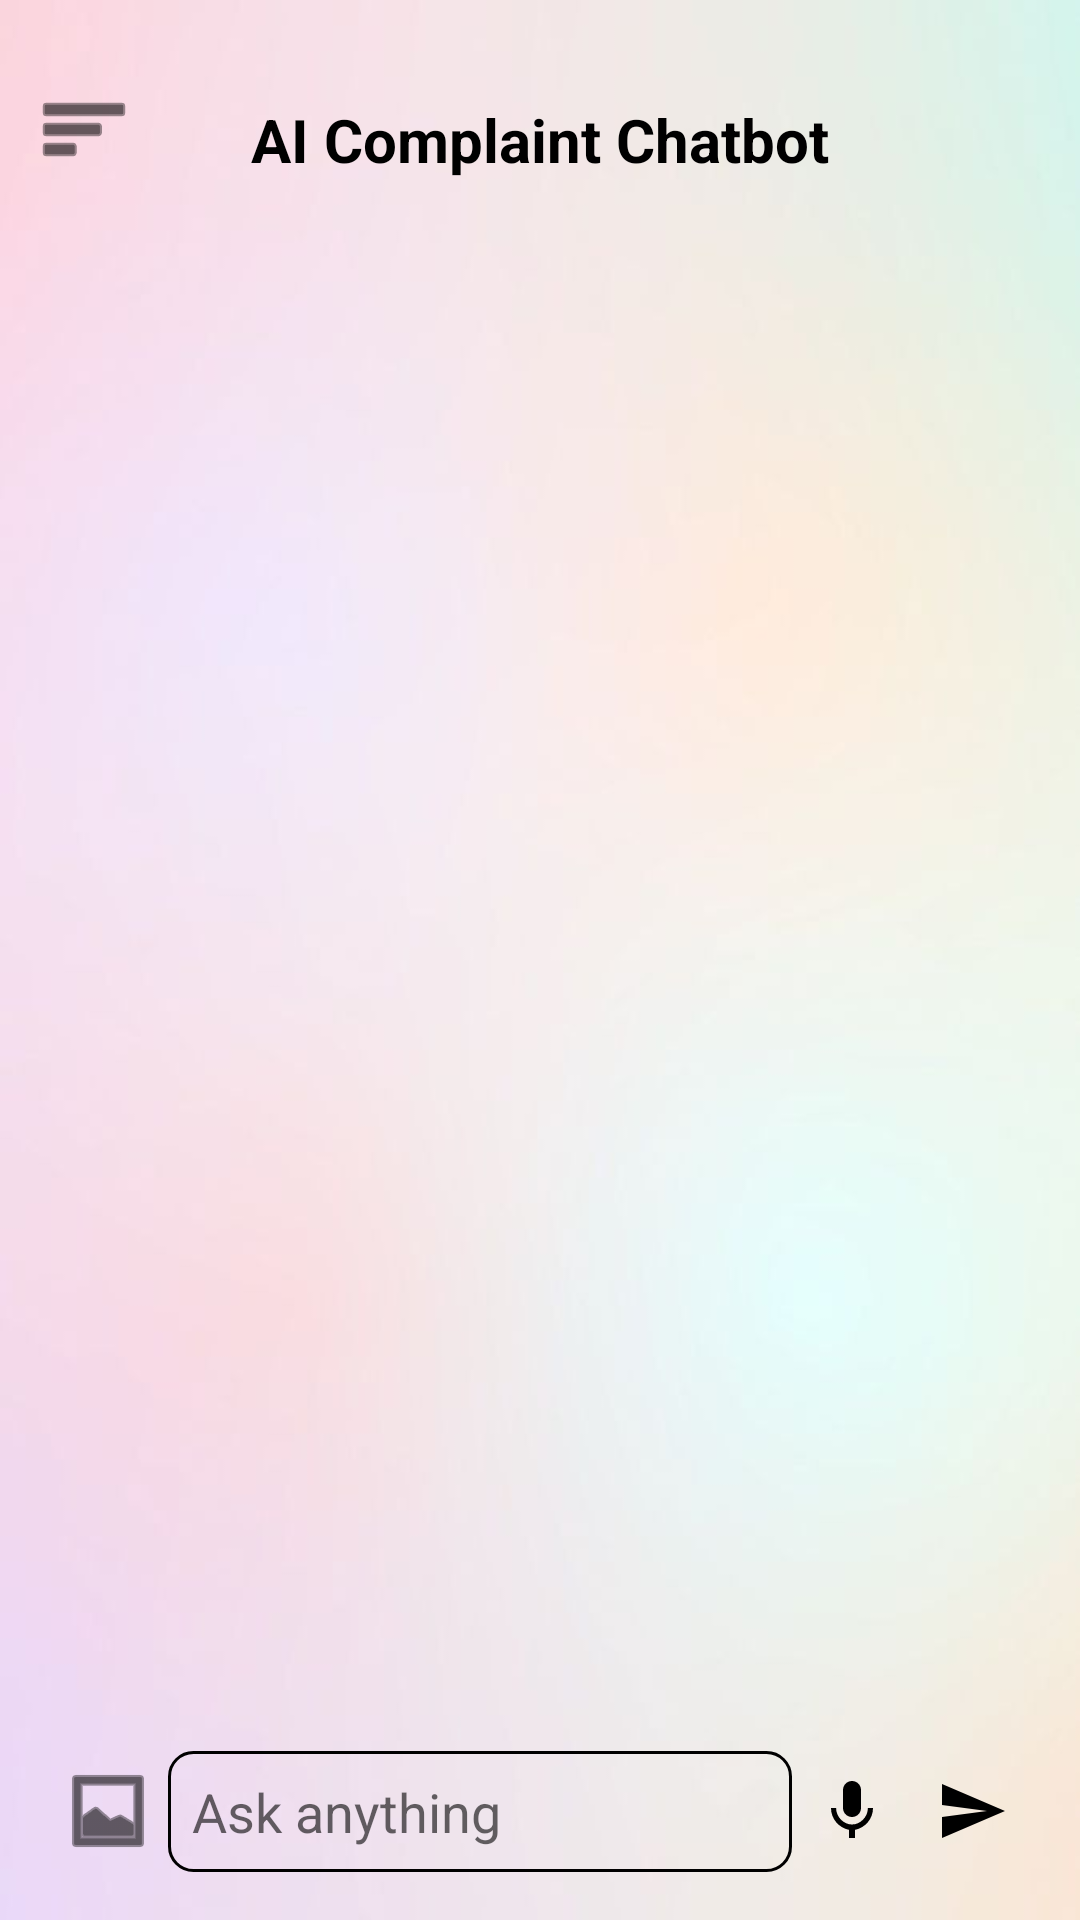

Icon click points for this 1080x1920 phone screenshot, format [x,y]:
Menu: [84,129]
Mic: [852,1809]
Send: [973,1811]
Upload Image/Video: [108,1811]
